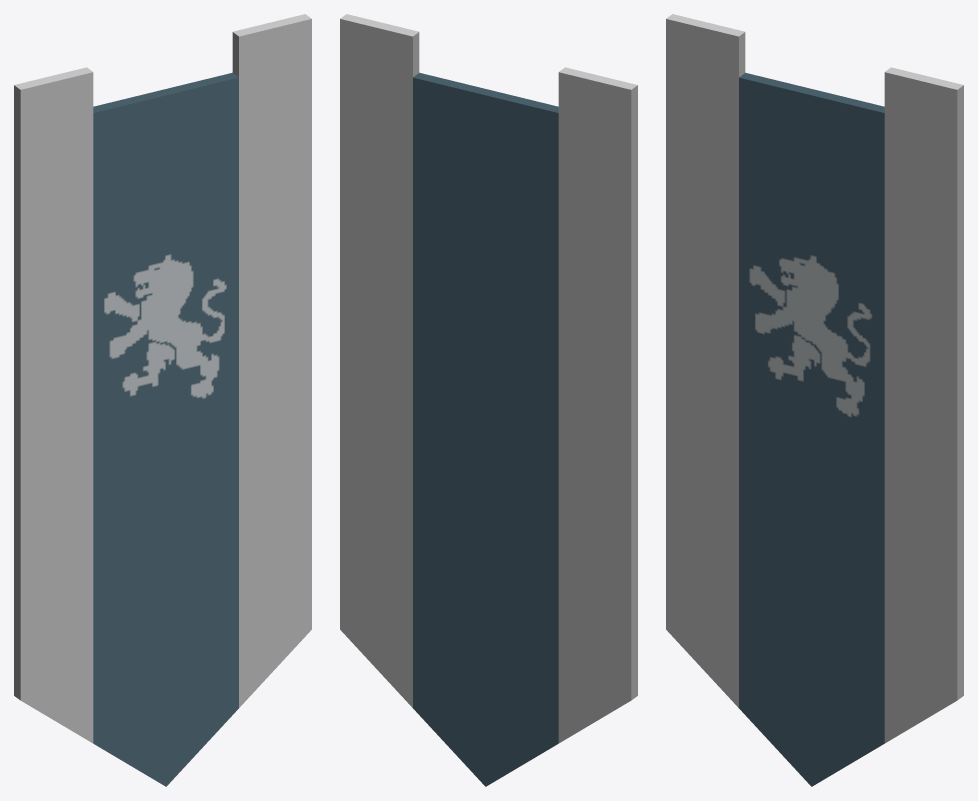
Rendered from SF_Bld_Castle_Banner_01.fbx.
3 renders of one model, left to right at view 1: azimuth 30°, elevation 25°; view 2: azimuth 150°, elevation 25°; view 3: azimuth 330°, elevation 25°, orthographic.
Parts seen in each view (by area): view 1: SF_Bld_Castle_Banner_01; view 2: SF_Bld_Castle_Banner_01; view 3: SF_Bld_Castle_Banner_01.
Part boxes in pixels (bbox=[...]): SF_Bld_Castle_Banner_01: bbox=[14, 14, 311, 786]; SF_Bld_Castle_Banner_01: bbox=[340, 14, 637, 786]; SF_Bld_Castle_Banner_01: bbox=[666, 14, 963, 786].
Bounding box in the file's own units: 5.34 × 12.83 × 0.2102.
